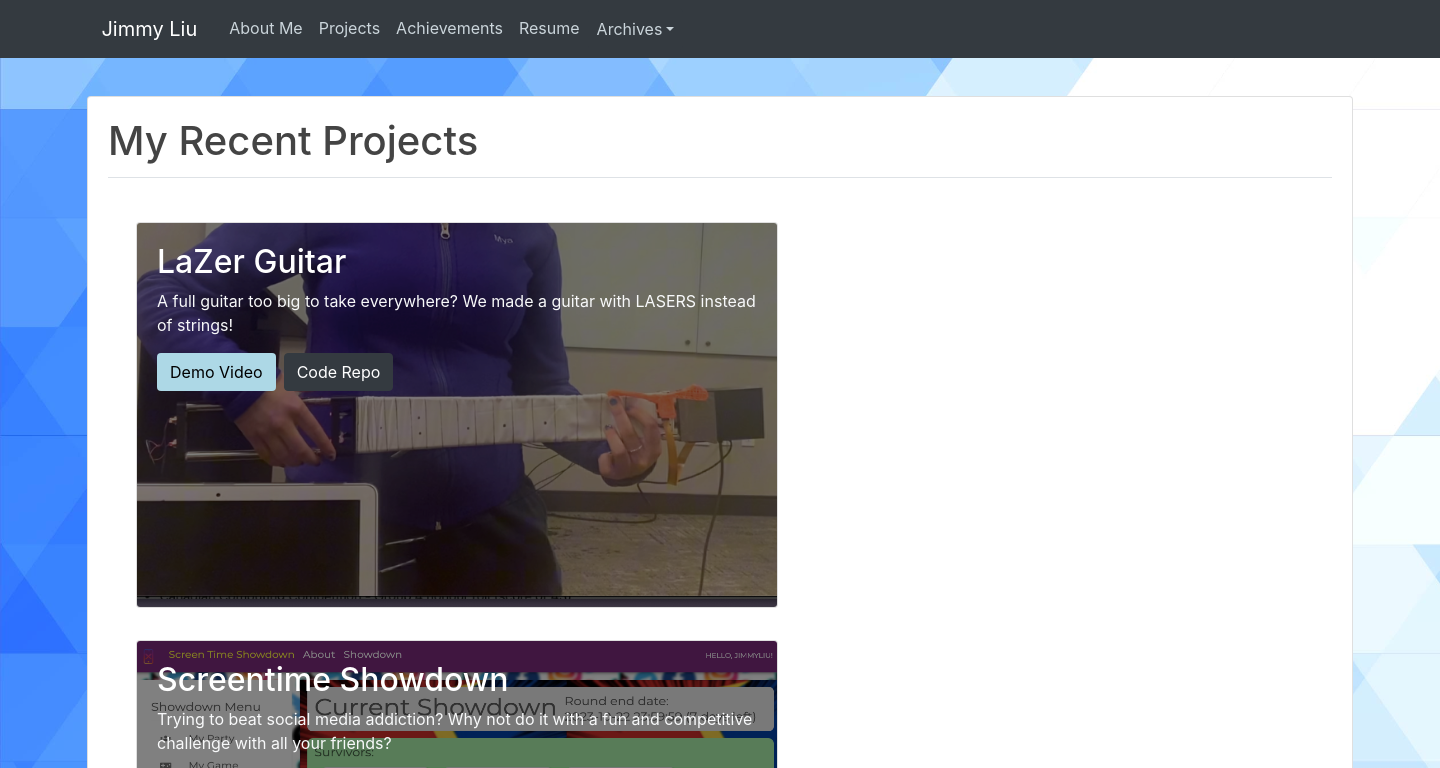
Test: App › Should route to Achievements after link is clicked
Check: the text "Timeline and Achievements" is not shown
Click the link "Achievements" at (450, 28), box 396,18 -> 503,38
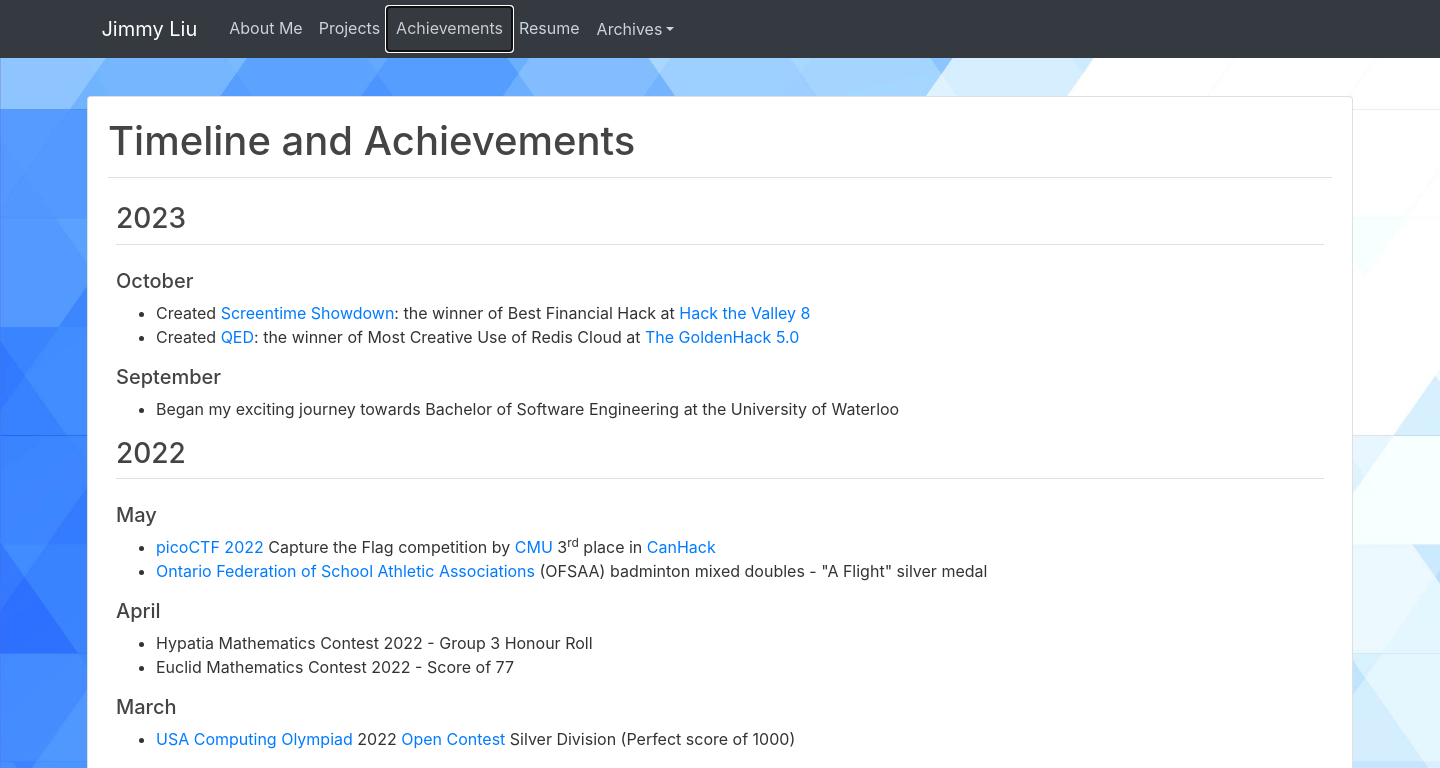
Check: the heading "Timeline and Achievements" is shown, box 108,116 -> 635,165
